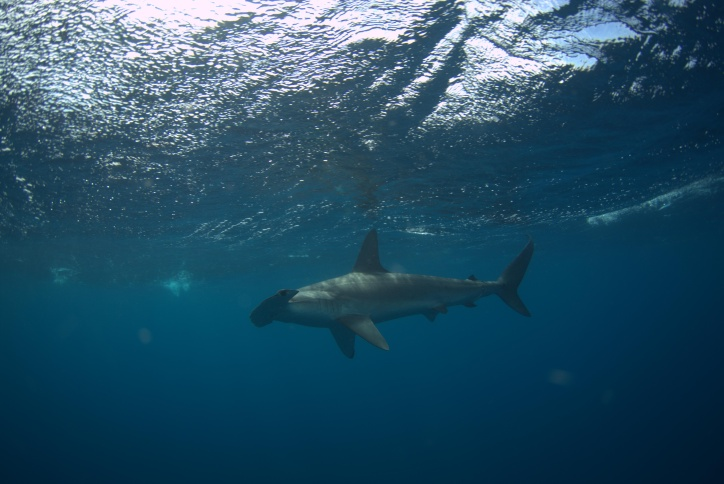Hammer: (216, 201, 566, 378)
